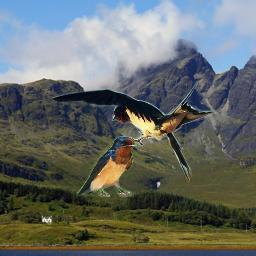Swallow: (48, 80, 244, 183), (76, 136, 137, 197)
